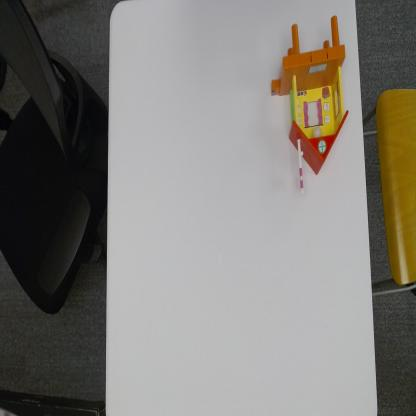House: (272, 14, 350, 196)
